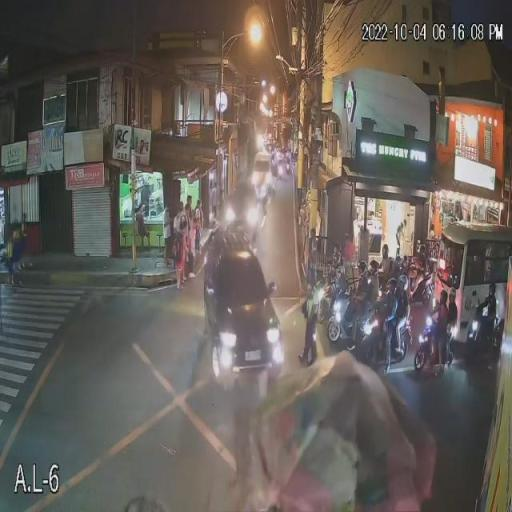helmet: (445, 286, 461, 304), (357, 260, 371, 278), (329, 252, 347, 266), (487, 283, 501, 301), (381, 243, 392, 263), (417, 243, 429, 258), (436, 289, 448, 302), (366, 260, 380, 270), (386, 276, 398, 286)
motorcycle: (351, 302, 412, 368), (322, 286, 372, 344), (460, 306, 502, 364), (412, 310, 450, 372), (316, 277, 353, 321)
rider: (378, 275, 408, 354), (354, 259, 382, 324), (396, 272, 416, 362), (426, 284, 450, 354), (444, 283, 459, 378), (473, 279, 495, 342), (325, 253, 350, 302), (410, 246, 426, 300), (368, 259, 380, 329), (376, 243, 393, 281)
